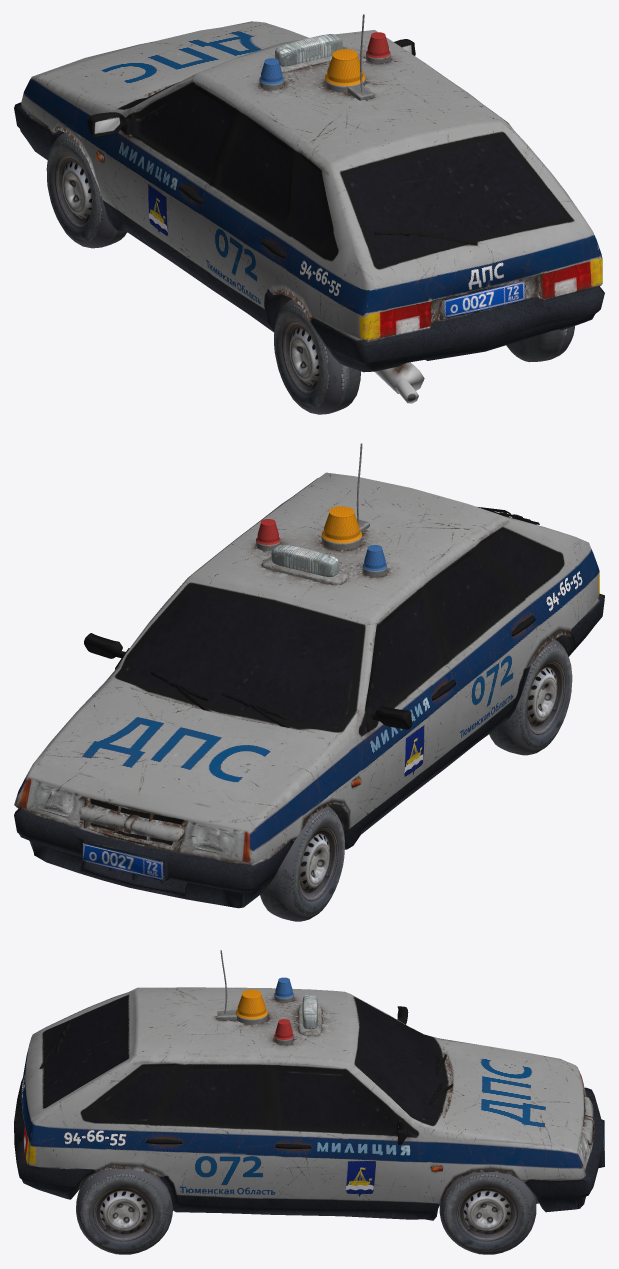
3 renders of one model, top to bottom at view 1: azimuth 30°, elevation 25°; view 2: azimuth 150°, elevation 25°; view 3: azimuth 270°, elevation 25°, orthographic. The views are drawn at different scales.
Parts seen in each view (by area): view 1: CarBody, Whells3, Whells1, Flashlight, taxycap, Whells, Mirror, Cleaner; view 2: CarBody, Whells1, Whells3, Flashlight, taxycap, Mirror, Cleaner; view 3: CarBody, Whells, Whells2, Flashlight, taxycap, Cleaner, Mirror.
Part boxes in pixels (x1,y1,x2,y2): CarBody: (14,21,604,403); Whells3: (274,299,360,414); Whells1: (46,132,126,248); Flashlight: (259,14,390,100); taxycap: (275,34,347,72); Whells: (506,326,574,362); Mirror: (87,39,415,137); Cleaner: (147,82,477,245); CarBody: (14,472,604,908); Whells1: (260,806,344,921); Whells3: (489,639,572,755); Flashlight: (256,443,387,577); taxycap: (262,544,348,584); Mirror: (84,633,412,731); Cleaner: (150,507,539,728); CarBody: (14,987,604,1220); Whells: (76,1169,172,1254); Whells2: (439,1172,536,1254); Flashlight: (217,950,293,1045); taxycap: (298,995,321,1035); Cleaner: (39,1020,452,1104); Mirror: (397,1006,411,1144).
Bounding box in the file's own units: 20.22 × 19.36 × 40.
9 materials, 9 textured.
